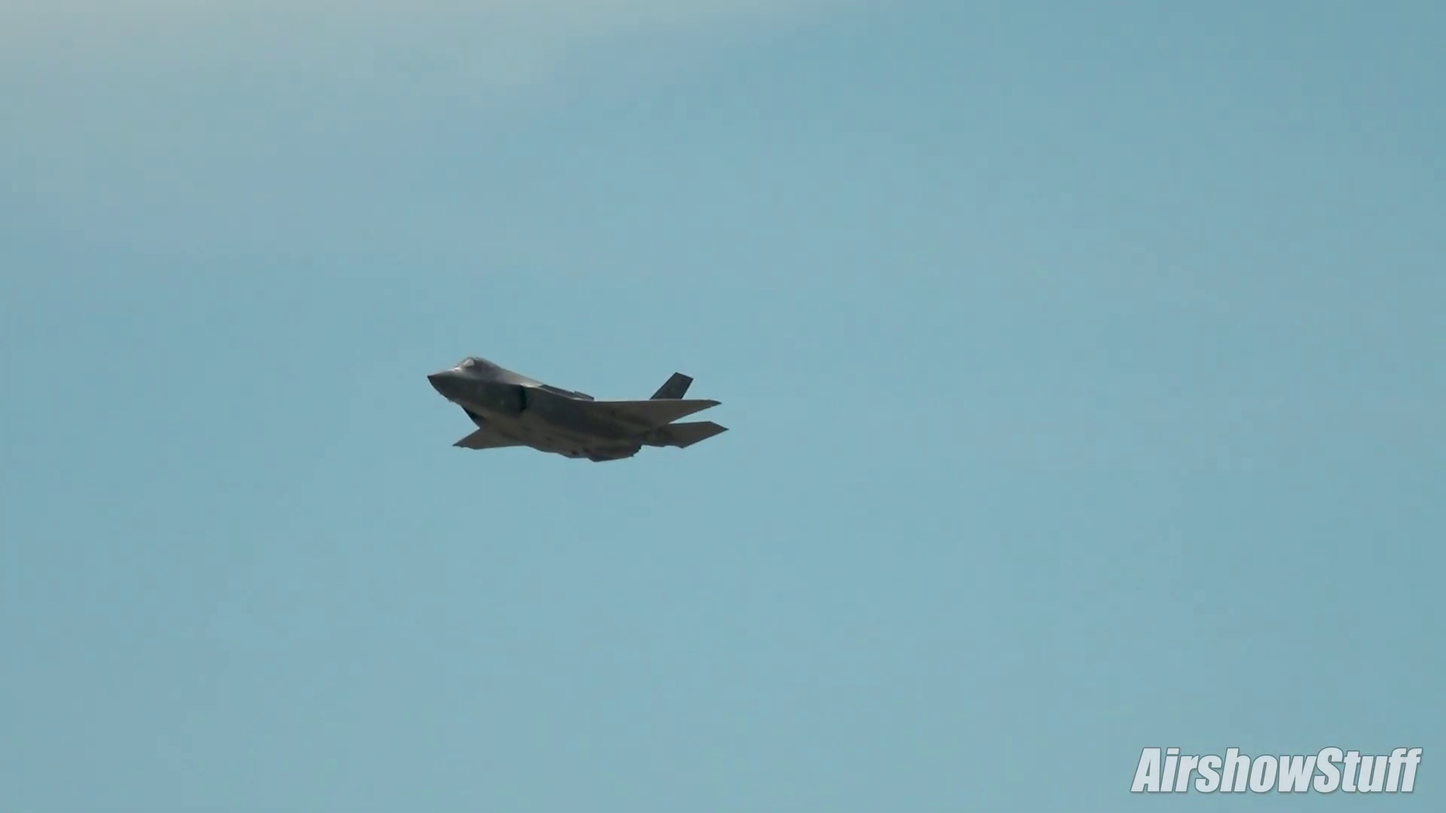F35: (424, 350, 733, 465)
